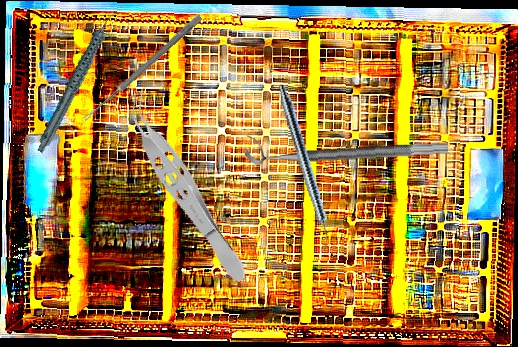Fixation Ring: (244, 124, 449, 166)
Handpiece: (11, 9, 145, 154), (272, 84, 338, 251)
Surgical Spoon: (82, 13, 203, 123)
Tissue Forceps: (113, 88, 258, 289)
